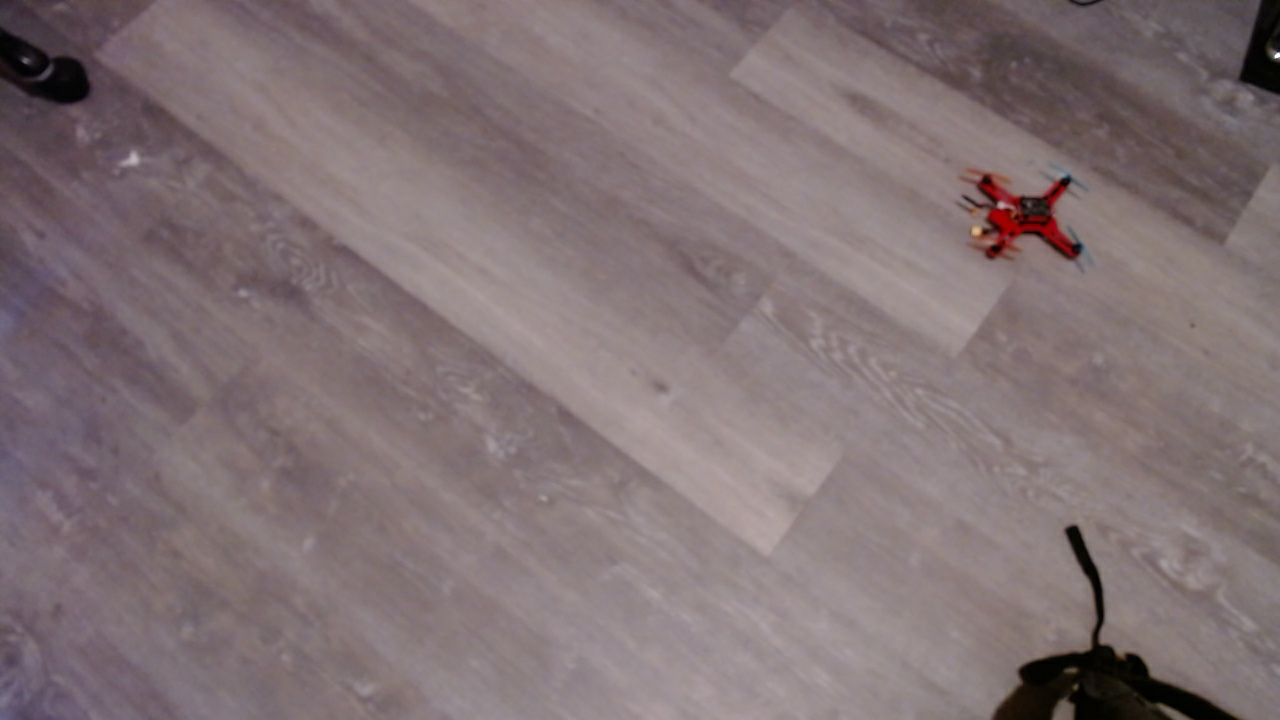crazyflie: (966, 167, 1097, 291)
